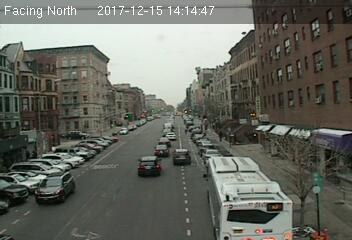bus: (205, 155, 292, 240)
car: (34, 172, 75, 204), (136, 156, 161, 176), (172, 148, 191, 165), (154, 145, 169, 156), (165, 132, 177, 140), (158, 137, 169, 144)
